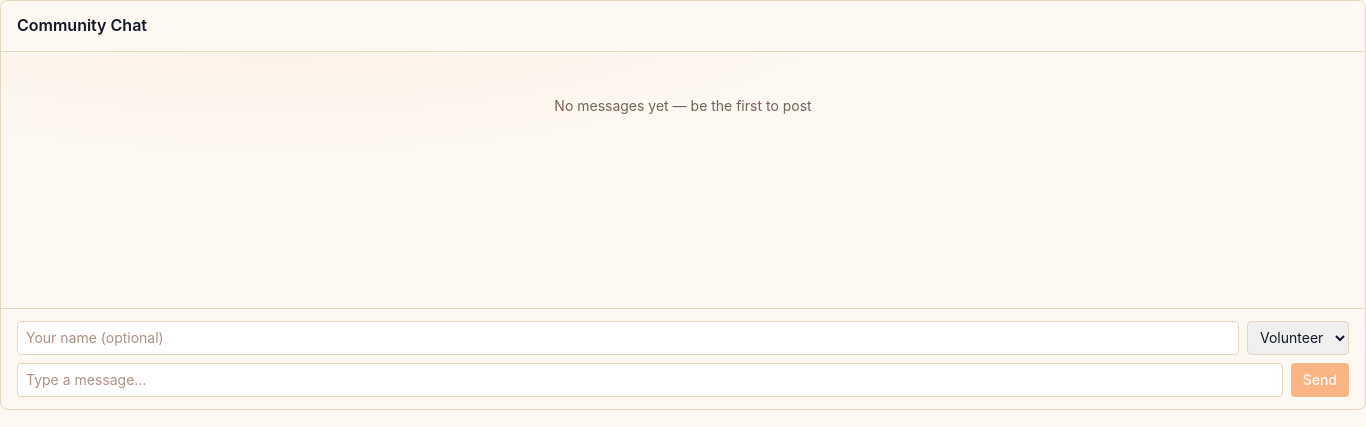
message submission › fetches latest messages immediately after a successful POST
Type "Posted message" into the field labelled "message" at (650, 380), box [17, 363, 1283, 397]
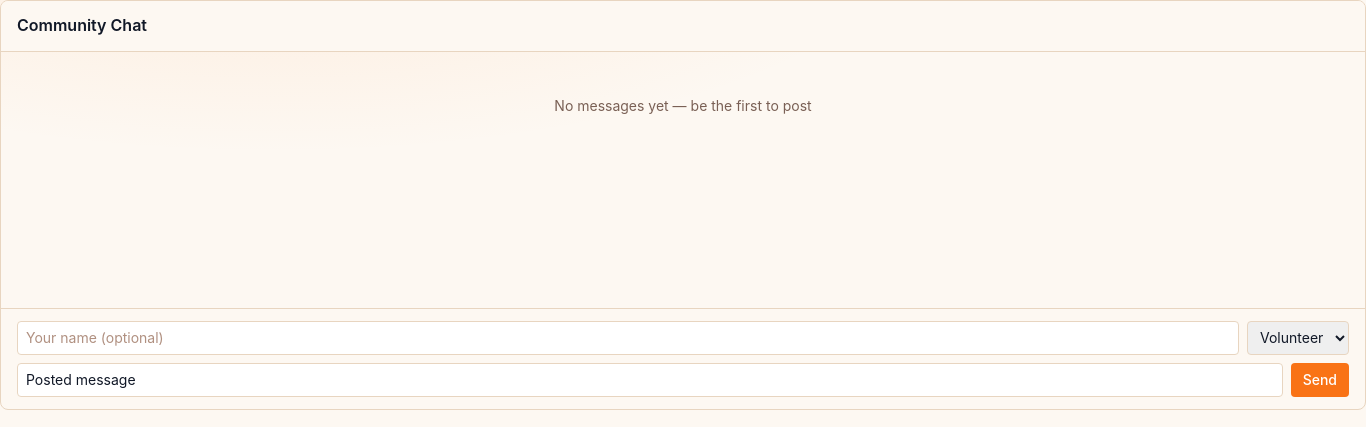
Submit the form named "send a message", box [1, 308, 1365, 409]
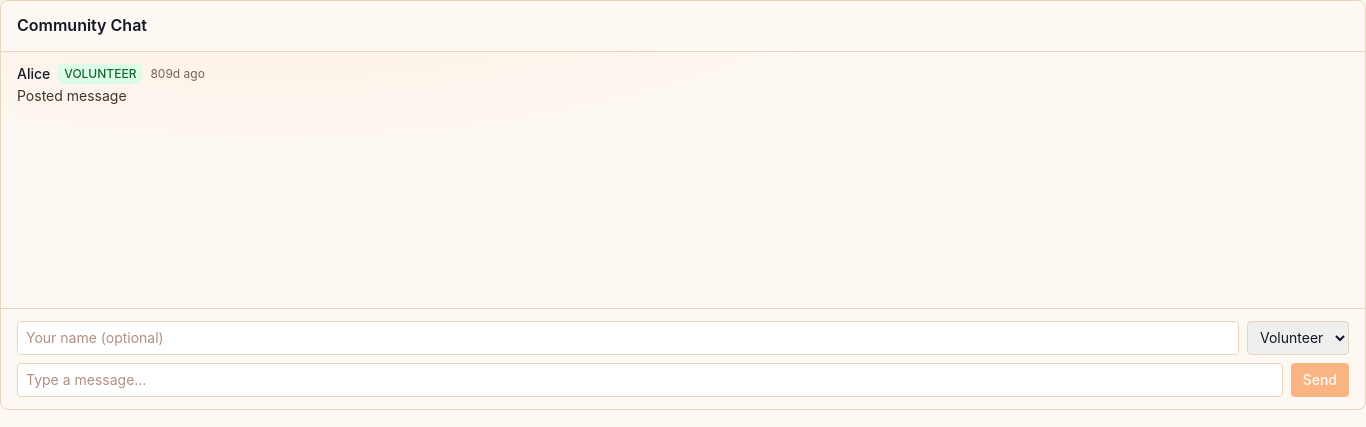
Now the text "Posted message" is shown, box [17, 87, 127, 104]
